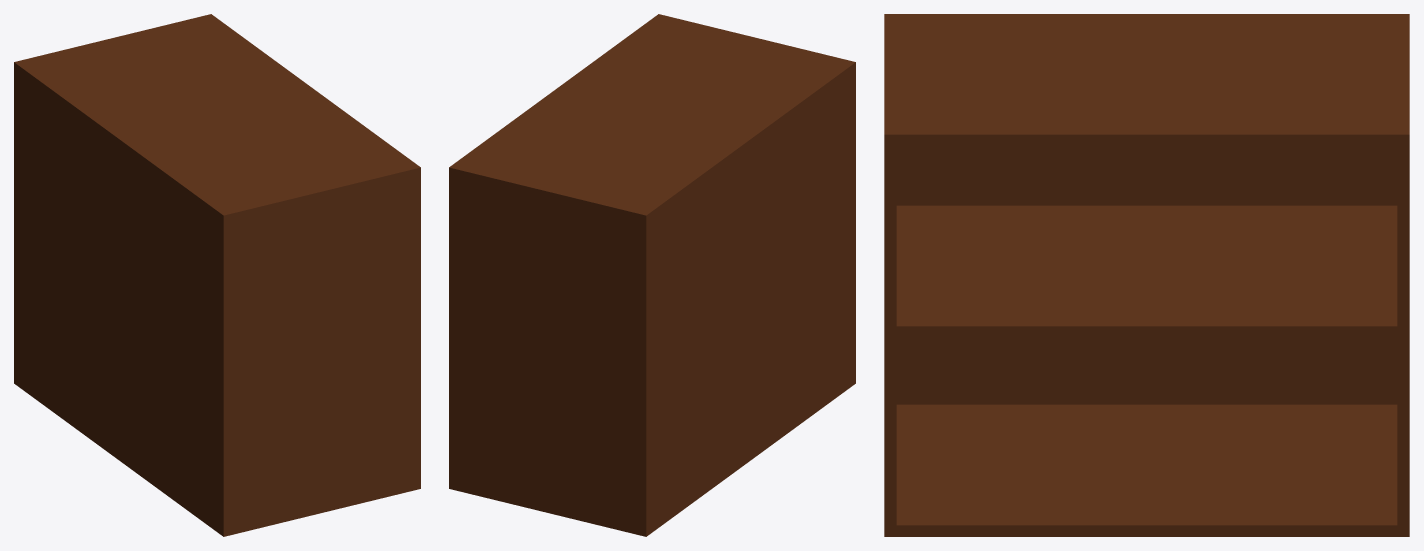
File: bureau2.obj
3 views of the same model, side by side, from view 1: azimuth 30°, elevation 25°; view 2: azimuth 150°, elevation 25°; view 3: azimuth 270°, elevation 25° (orthographic). The views are drawn at different scales.
Visible parts, largest first — view 1: Cubo.010_Cubo.013; view 2: Cubo.010_Cubo.013; view 3: Cubo.010_Cubo.013.
Part boxes in pixels (x1=…): Cubo.010_Cubo.013: x1=14, y1=14, x2=420, y2=536; Cubo.010_Cubo.013: x1=449, y1=14, x2=855, y2=536; Cubo.010_Cubo.013: x1=884, y1=14, x2=1409, y2=536.
Bounding box in the file's own units: 16.5 × 25.69 × 30.38.
Materials: 1 (1 with a texture image).
